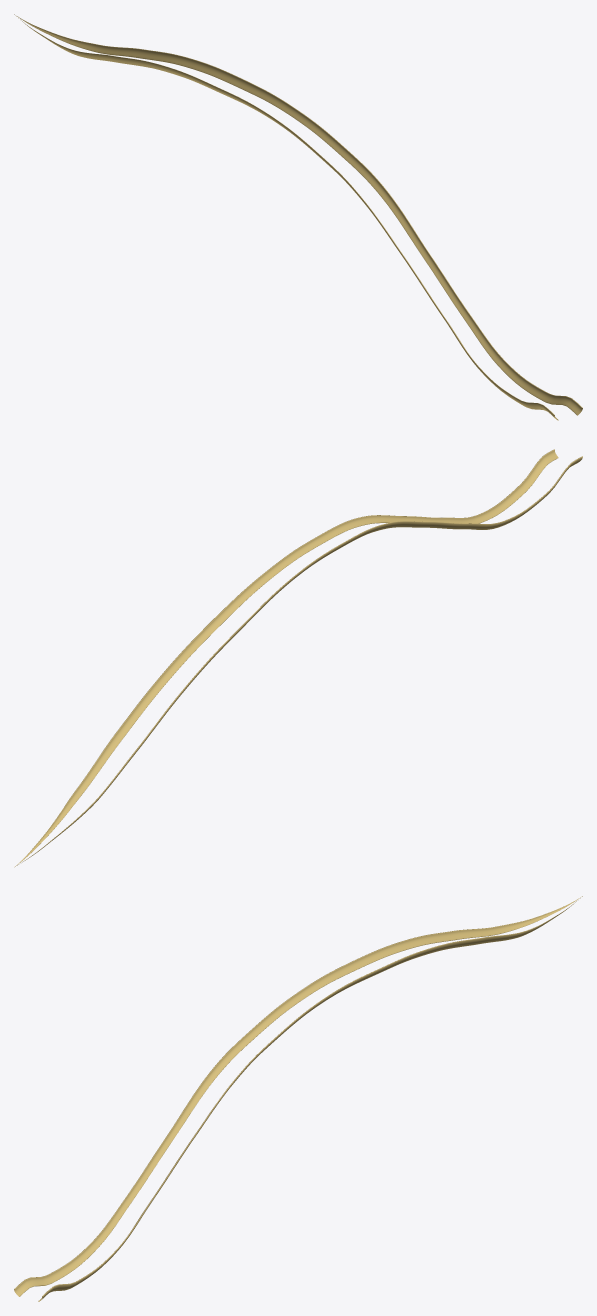
The picture shows the model from 3 angles, top to bottom: view 1: azimuth 30°, elevation 25°; view 2: azimuth 150°, elevation 25°; view 3: azimuth 330°, elevation 25°; orthographic projection.
Visible parts, largest first — view 1: 脊髓小脑前束; view 2: 脊髓小脑前束; view 3: 脊髓小脑前束.
Boxes of the visible parts, box(x1,y1,x2,y2) form: 脊髓小脑前束: box(14, 14, 582, 420); 脊髓小脑前束: box(14, 449, 582, 867); 脊髓小脑前束: box(14, 896, 582, 1301).
Bounding box in the file's own units: 0.0217 × 0.0793 × 0.7214.
